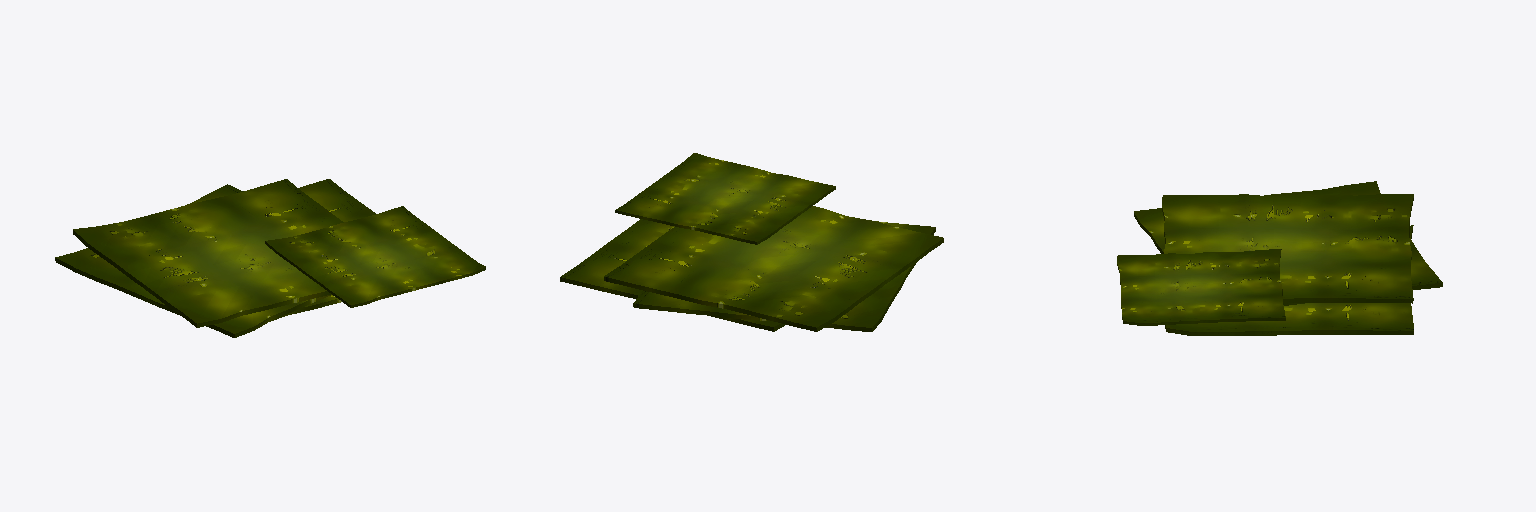
3 renders of one model, left to right at view 1: azimuth 30°, elevation 25°; view 2: azimuth 150°, elevation 25°; view 3: azimuth 270°, elevation 25°, orthographic.
Parts seen in each view (by area): view 1: pPlane3, pPlane4, pPlane5, pPlane6; view 2: pPlane3, pPlane4, pPlane6, pPlane5; view 3: pPlane3, pPlane4, pPlane6, pPlane5.
Boxes of the visible parts, box(x1,y1,x2,y2) form: pPlane3: box(73, 179, 343, 327); pPlane4: box(265, 206, 485, 307); pPlane5: box(55, 184, 331, 337); pPlane6: box(270, 179, 375, 321); pPlane3: box(604, 206, 943, 331); pPlane4: box(615, 153, 835, 244); pPlane6: box(560, 219, 785, 331); pPlane5: box(633, 221, 935, 331); pPlane3: box(1162, 194, 1413, 303); pPlane4: box(1117, 249, 1285, 325); pPlane6: box(1165, 225, 1413, 335); pPlane5: box(1134, 181, 1442, 305).
Size of the model in its own units: 23.3 by 1.77 by 21.56.
1 materials, 1 textured.